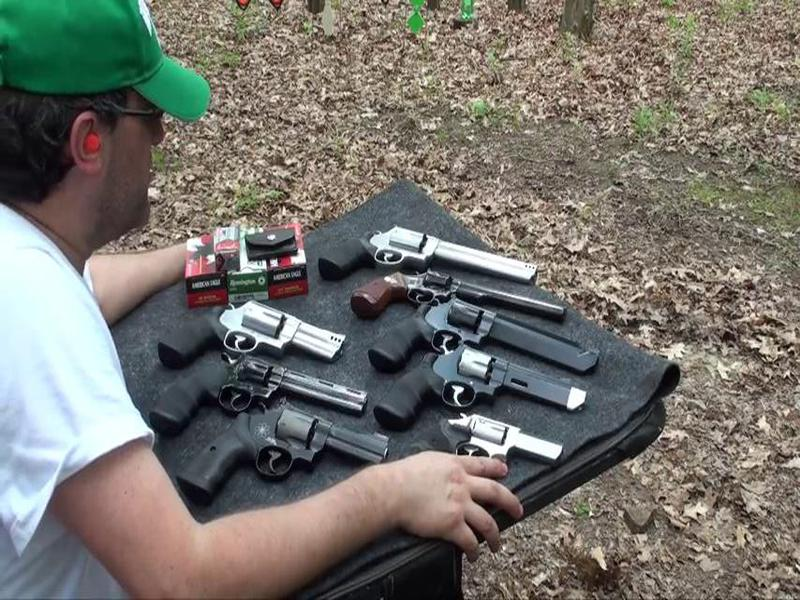Revolver: (376, 354, 610, 425)
